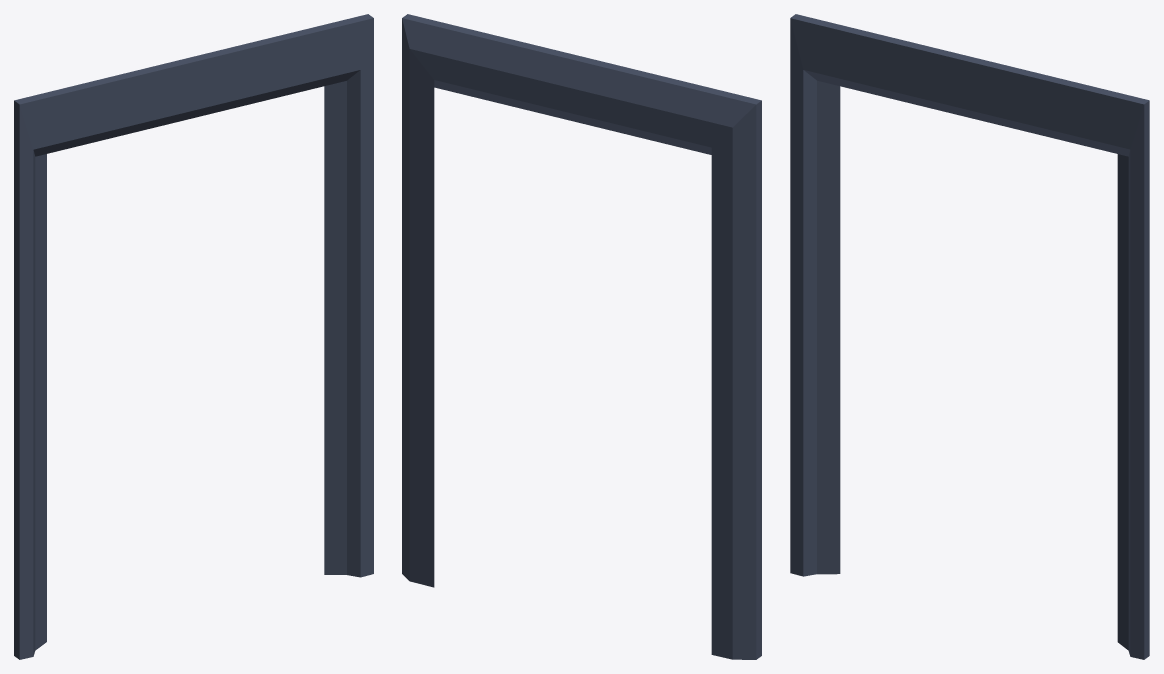
File: door-frame.fbx
3 renders of one model, left to right at view 1: azimuth 30°, elevation 25°; view 2: azimuth 150°, elevation 25°; view 3: azimuth 330°, elevation 25°, orthographic.
Visible parts, largest first — view 1: Cube.008; view 2: Cube.008; view 3: Cube.008.
Part boxes in pixels (bbox=[...]): Cube.008: bbox=[14, 14, 373, 659]; Cube.008: bbox=[402, 14, 761, 659]; Cube.008: bbox=[790, 14, 1149, 659].
Bounding box in the file's own units: 11.55 × 300 × 200.
